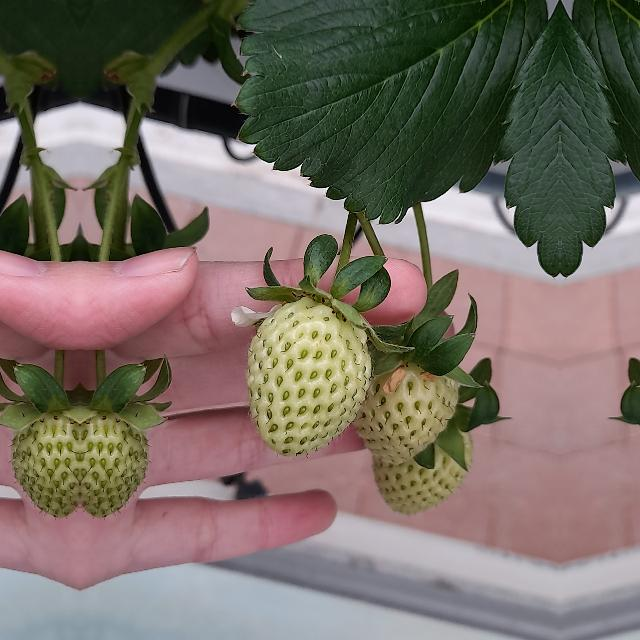Health_25: (246, 296, 370, 456), (352, 348, 462, 468), (370, 419, 474, 516), (80, 404, 154, 522), (6, 404, 80, 522)
